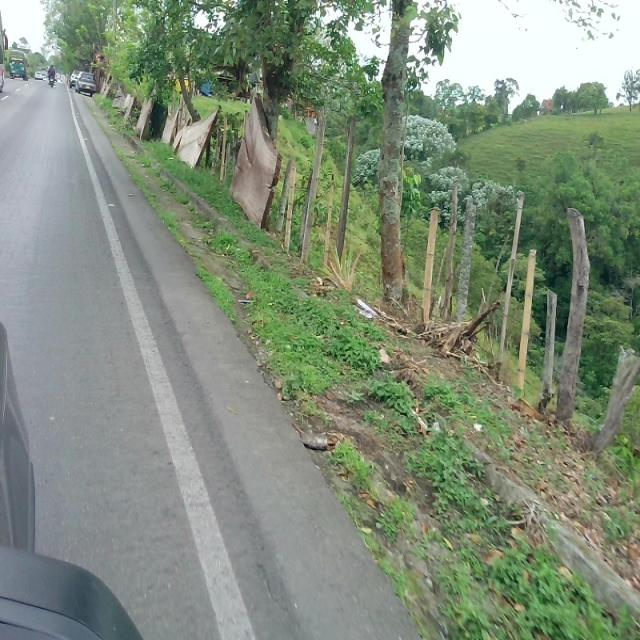DITCH: (1, 96, 638, 638), (88, 89, 639, 638)
